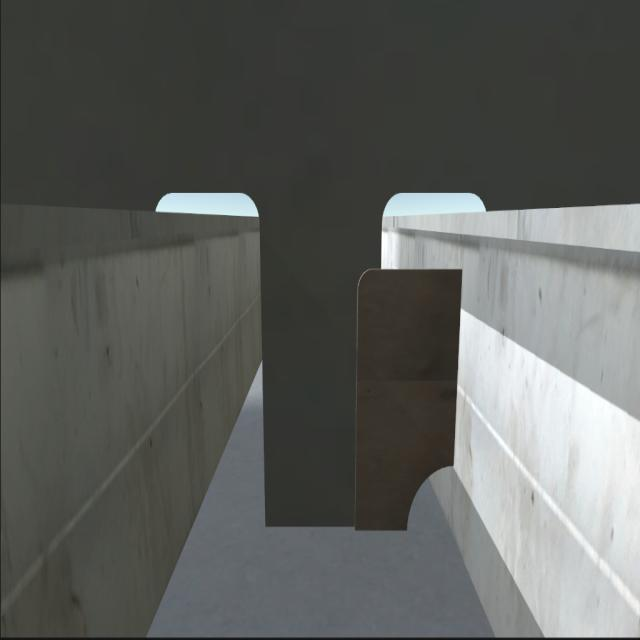fillet_hole: (404, 459, 456, 529)
fillet_yong_jeop_jang: (264, 511, 421, 547)
longi_yong_jeop_jang: (448, 260, 468, 478)
plate_CP05: (352, 265, 462, 535)
